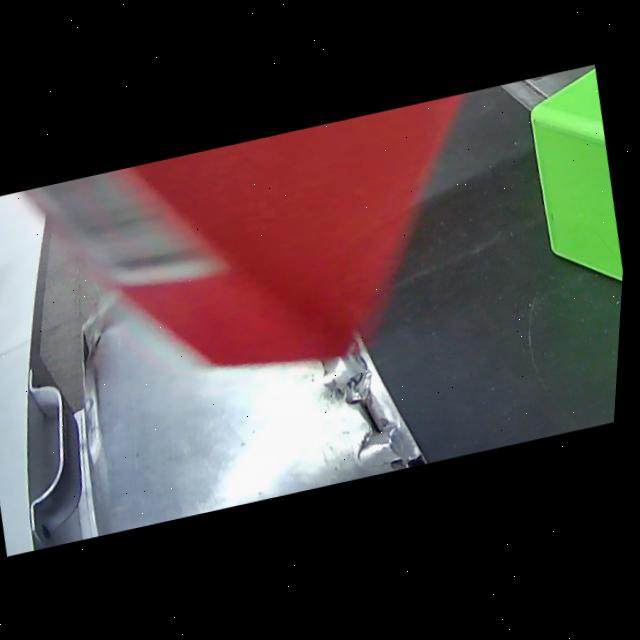greenBox: (507, 68, 636, 377)
redBox: (0, 92, 530, 447)
